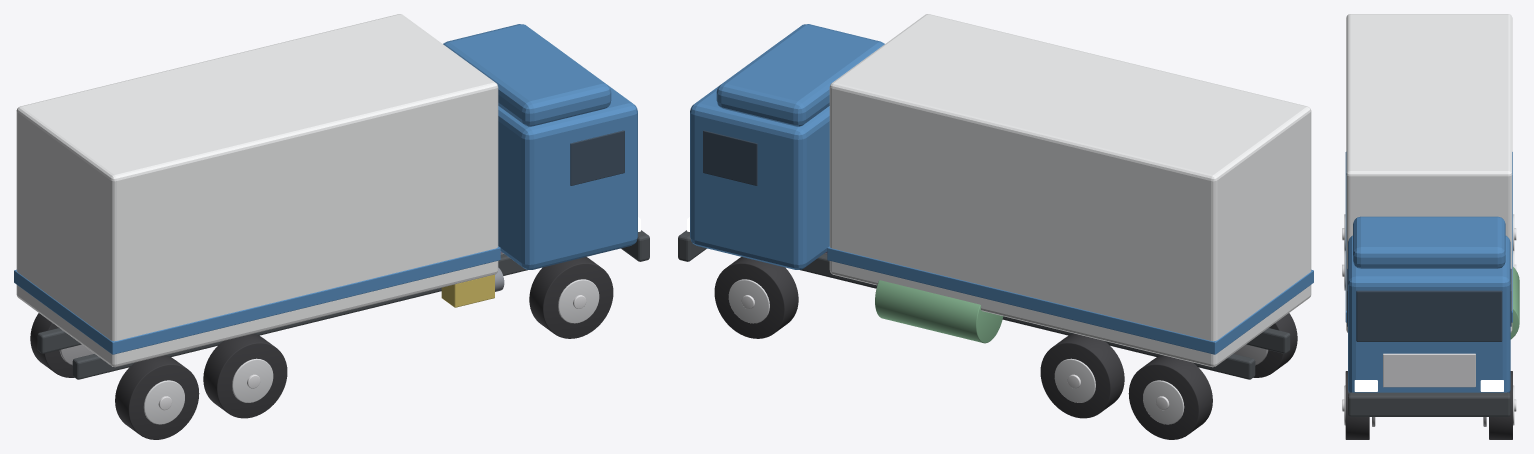
File: truck.glb
The picture shows the model from 3 angles, left to right: view 1: azimuth 30°, elevation 25°; view 2: azimuth 150°, elevation 25°; view 3: azimuth 270°, elevation 25°; orthographic projection. The views are drawn at different scales.
Parts seen in each view (by area): view 1: body__cargo_box, body__cab, body__cab_roof, body__cargo_stripe, tires__wheel_R1R, tires__wheel_R2R, tires__wheel_FR, body__side_window_-1, body__chassis_rail_R, electrical__battery, tires__wheel_R2L, body__chassis_rail_L; view 2: body__cargo_box, body__cab, body__cab_roof, body__cargo_stripe, tires__wheel_R1L, tires__wheel_R2L, tires__wheel_FL, fuel__tank, body__side_window_1, body__chassis_rail_L, tires__wheel_R2R, body__chassis_rail_R; view 3: body__cargo_box, body__cab, body__cab_roof, body__windshield, body__bumper, body__grille, tires__wheel_FL, tires__wheel_FR, body__cargo_stripe, fuel__tank, body__headlight_-1, body__headlight_1.
Boxes of the visible parts, box(x1,y1,x2,y2) form: body__cargo_box: box(16, 14, 498, 367); body__cab: box(498, 47, 637, 269); body__cab_roof: box(443, 24, 611, 126); body__cargo_stripe: box(14, 246, 500, 354); tires__wheel_R1R: box(203, 333, 287, 418); tires__wheel_R2R: box(115, 355, 199, 439); tires__wheel_FR: box(529, 257, 613, 338); body__side_window_-1: box(570, 130, 624, 185); body__chassis_rail_R: box(72, 254, 527, 379); electrical__battery: box(441, 274, 494, 307); tires__wheel_R2L: box(30, 313, 74, 377); body__chassis_rail_L: box(37, 328, 81, 353); body__cargo_box: box(829, 14, 1311, 367); body__cab: box(690, 47, 829, 269); body__cab_roof: box(716, 24, 884, 126); body__cargo_stripe: box(827, 246, 1313, 354); tires__wheel_R1L: box(1040, 333, 1124, 418); tires__wheel_R2L: box(1128, 355, 1212, 439); tires__wheel_FL: box(714, 257, 798, 338); fuel__tank: box(875, 280, 1003, 343); body__side_window_1: box(703, 130, 757, 185); body__chassis_rail_L: box(800, 254, 1255, 379); tires__wheel_R2R: box(1253, 313, 1297, 377); body__chassis_rail_R: box(1246, 328, 1290, 353); body__cargo_box: box(1346, 14, 1512, 332); body__cab: box(1348, 235, 1510, 392); body__cab_roof: box(1353, 216, 1505, 268); body__windshield: box(1356, 290, 1502, 341); body__bumper: box(1348, 392, 1510, 416); body__grille: box(1383, 353, 1475, 387); tires__wheel_FL: box(1489, 371, 1516, 439); tires__wheel_FR: box(1342, 371, 1369, 439); body__cargo_stripe: box(1345, 152, 1512, 322); fuel__tank: box(1510, 267, 1519, 339); body__headlight_-1: box(1354, 380, 1377, 391); body__headlight_1: box(1480, 380, 1503, 391).
Bounding box in the file's own units: 8.04 × 3.85 × 2.67.
